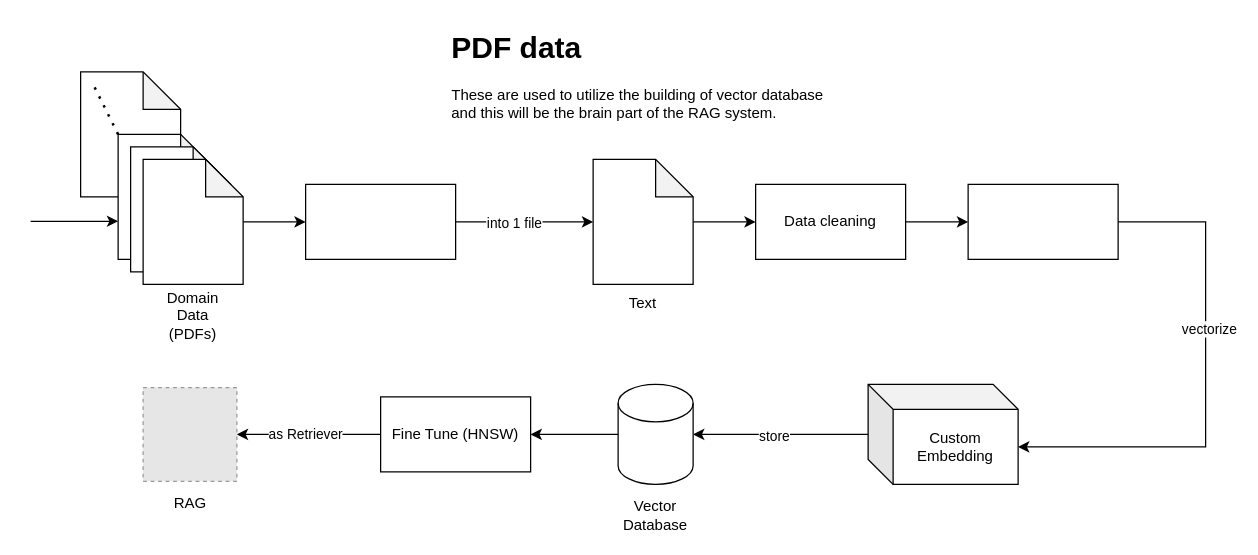
Image size: 1258x555. Some labels were removed from this diagram. Grey dashed boxes stand in for pictures. Here are the shapes that lost their labels. From the top down, the box of each, then its label:
(304, 183, 456, 259): Collect PDFs
(967, 183, 1118, 259): chunk with meta data
